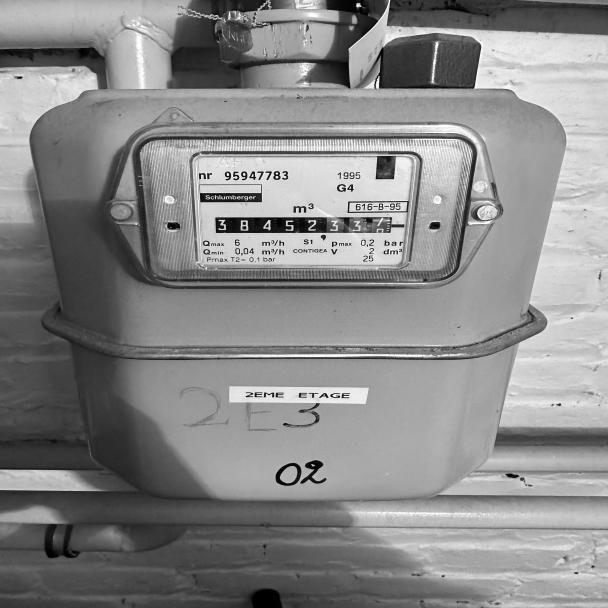2: (301, 217, 326, 233)
3: (347, 218, 373, 234), (325, 218, 349, 234), (214, 217, 232, 235)
4: (258, 218, 280, 235)
5: (280, 218, 300, 235)
7: (368, 218, 394, 234)
8: (234, 216, 256, 236)
cm: (326, 215, 398, 238)
counter: (212, 215, 328, 238)
